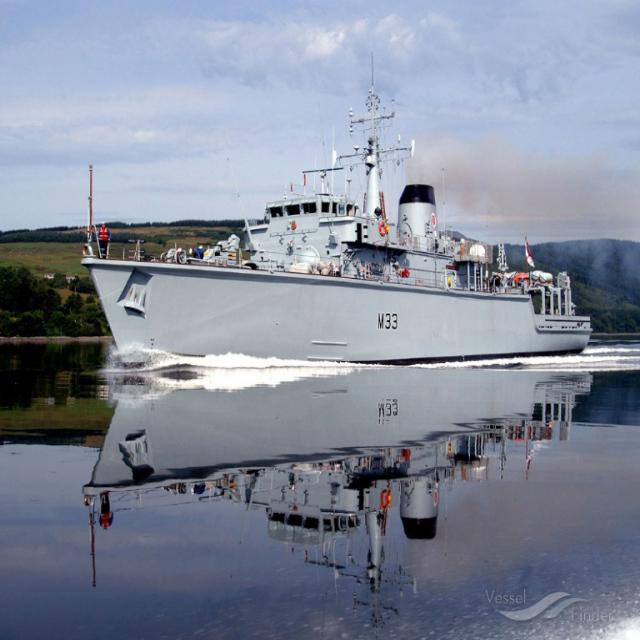OCR: (374, 308, 400, 336)
